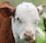muzzles: (18, 27, 38, 42)
